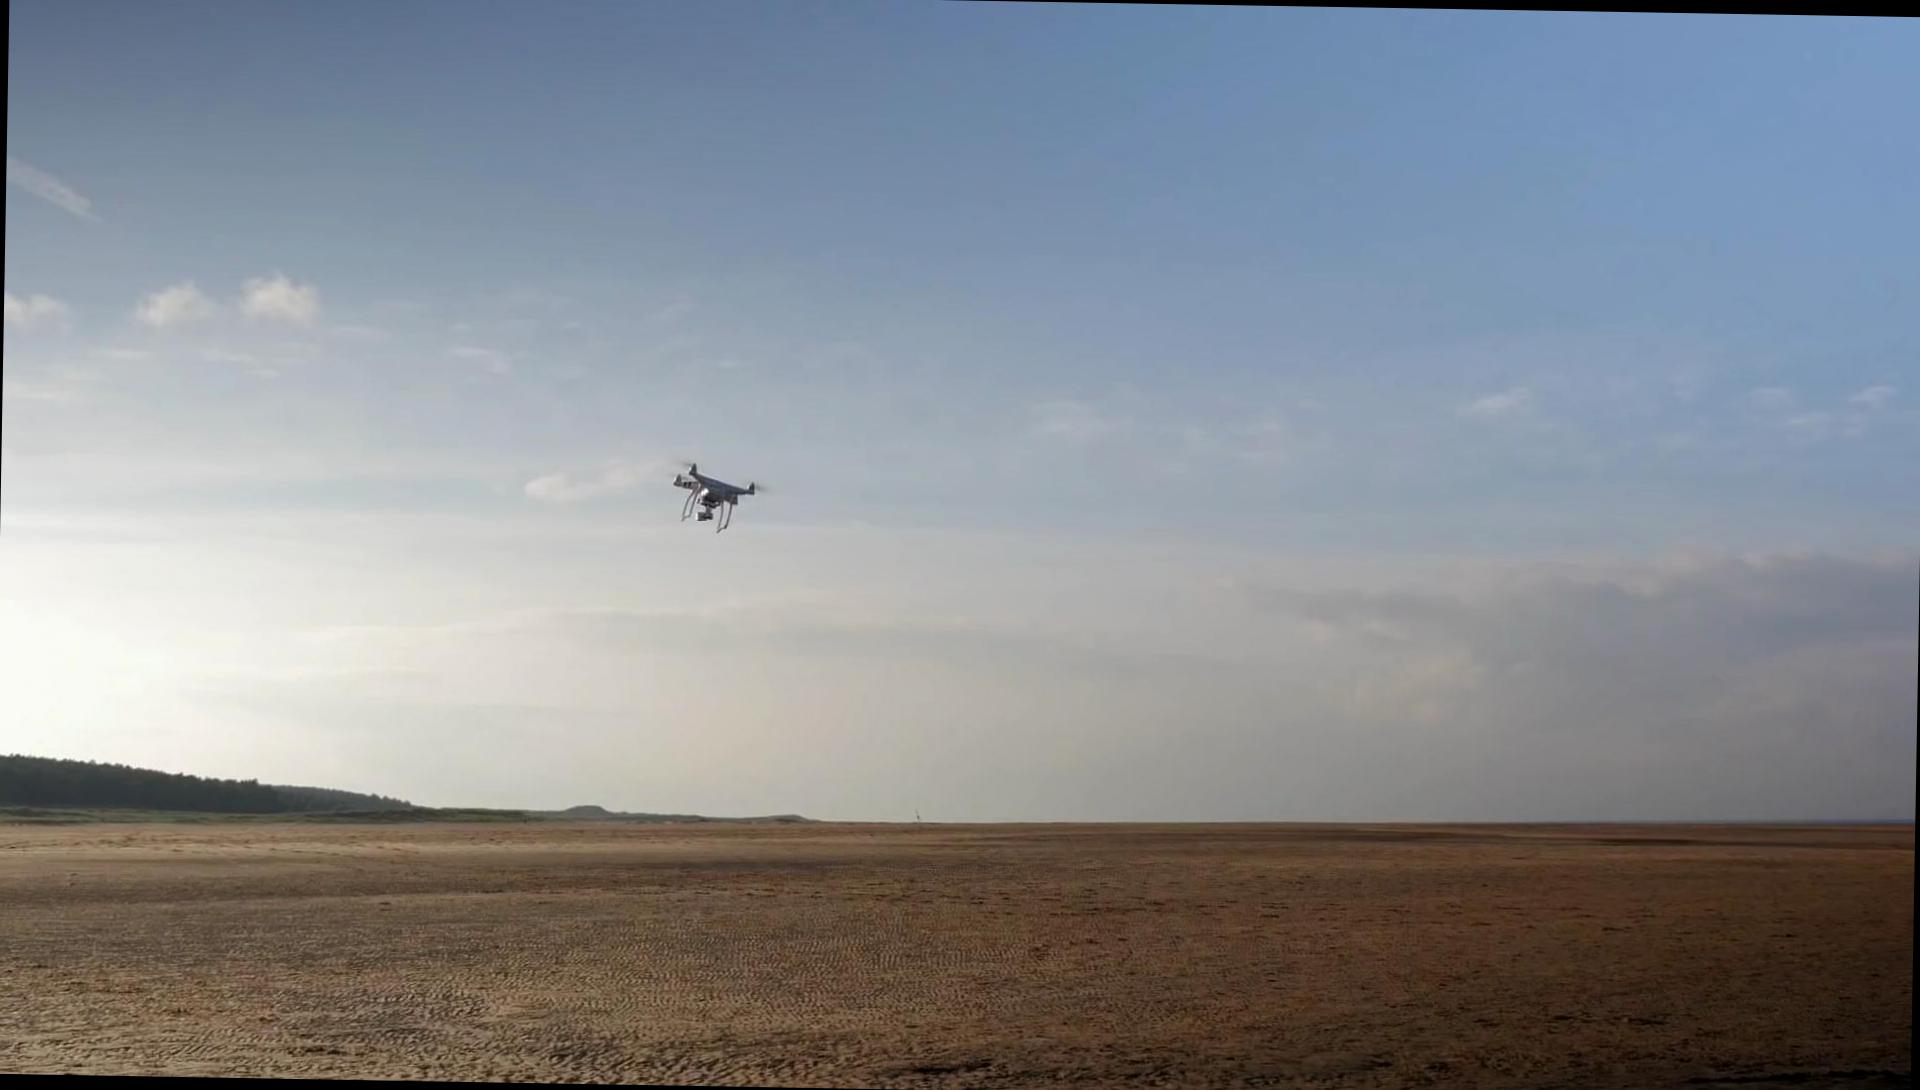drone: (666, 455, 769, 531)
